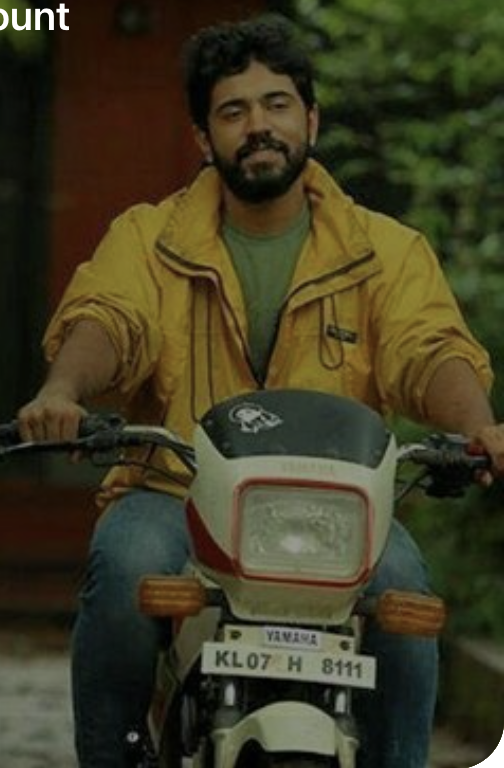motor: (12, 396, 495, 759)
no helmet: (194, 39, 316, 197)
number: (202, 641, 381, 691)
